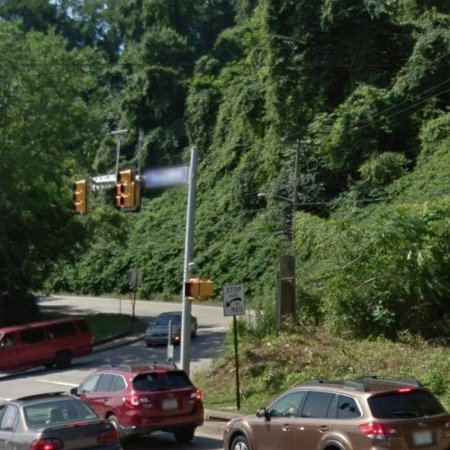行人穿越道: (1, 189, 449, 449)
